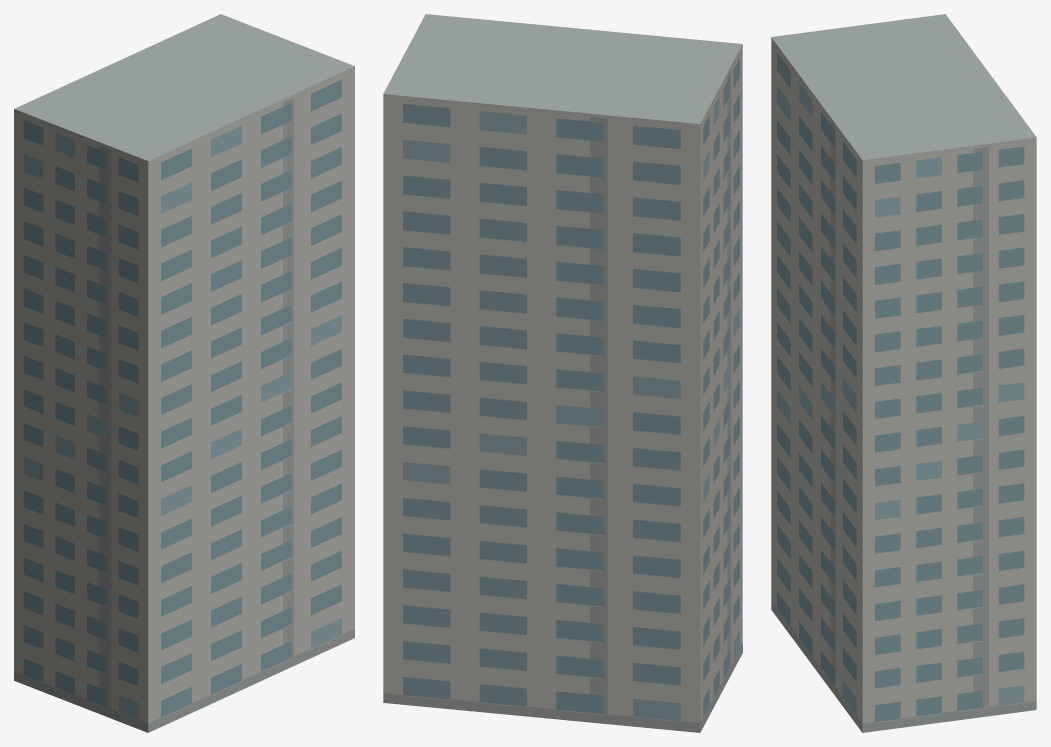
Rendered from residential-6682db7e-c008-457d-90b8-9234515eb973.glb.
3 views of the same model, side by side, from view 1: azimuth 30°, elevation 25°; view 2: azimuth 150°, elevation 25°; view 3: azimuth 270°, elevation 25° (orthographic). The views are drawn at different scales.
Visible parts, largest first — view 1: residential-6682db7e-c008-457d-90b8-9234515eb973.tmp; view 2: residential-6682db7e-c008-457d-90b8-9234515eb973.tmp; view 3: residential-6682db7e-c008-457d-90b8-9234515eb973.tmp.
Part boxes in pixels (x1=…): residential-6682db7e-c008-457d-90b8-9234515eb973.tmp: x1=14, y1=14, x2=354, y2=732; residential-6682db7e-c008-457d-90b8-9234515eb973.tmp: x1=383, y1=14, x2=742, y2=732; residential-6682db7e-c008-457d-90b8-9234515eb973.tmp: x1=771, y1=14, x2=1036, y2=732.
Bounding box in the file's own units: 24.66 × 45 × 18.91.
